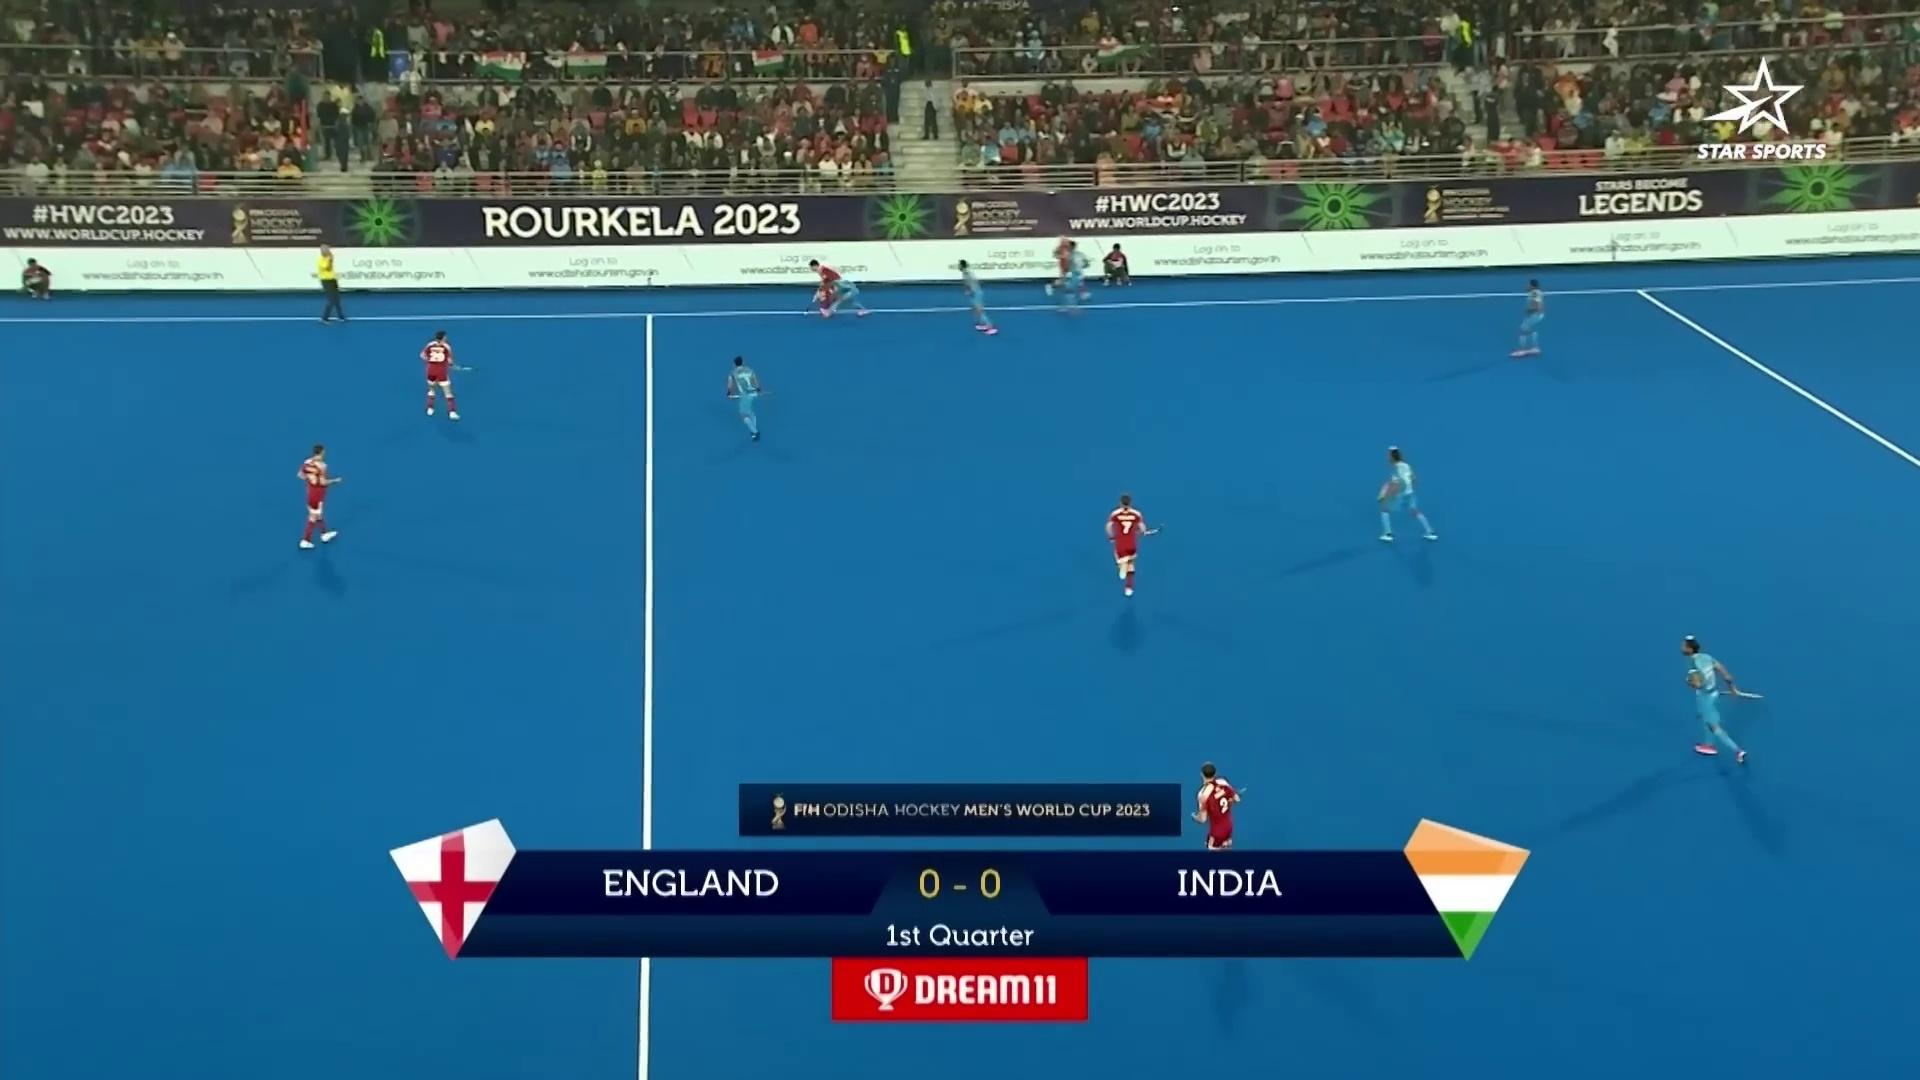ball: (798, 305, 815, 323)
